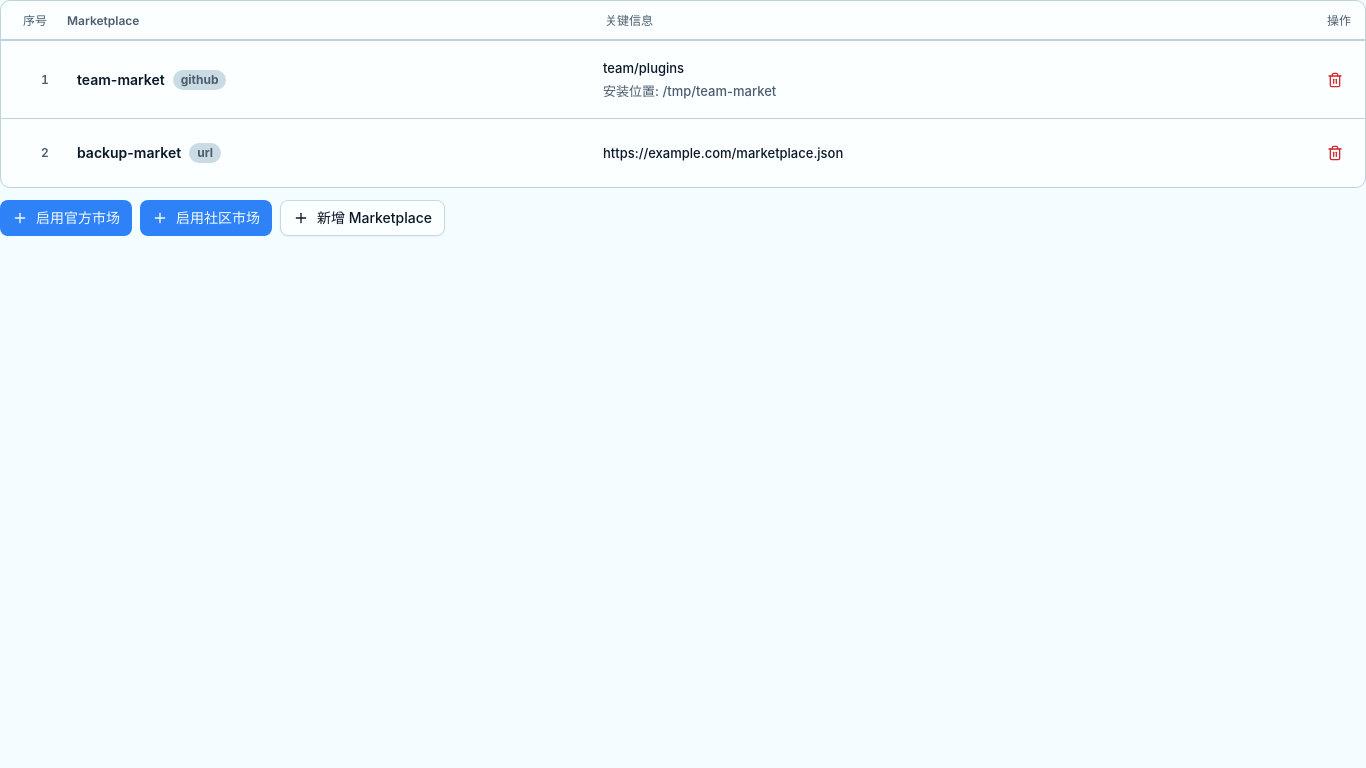
Scenario: MarketplaceEditor › keeps the marketplace when deletion is canceled
The width and height of the screenshot is (1366, 768).
Step 1. Click the button named "删除 Marketplace team-market" → (1335, 80), box [1319,64,1351,96]
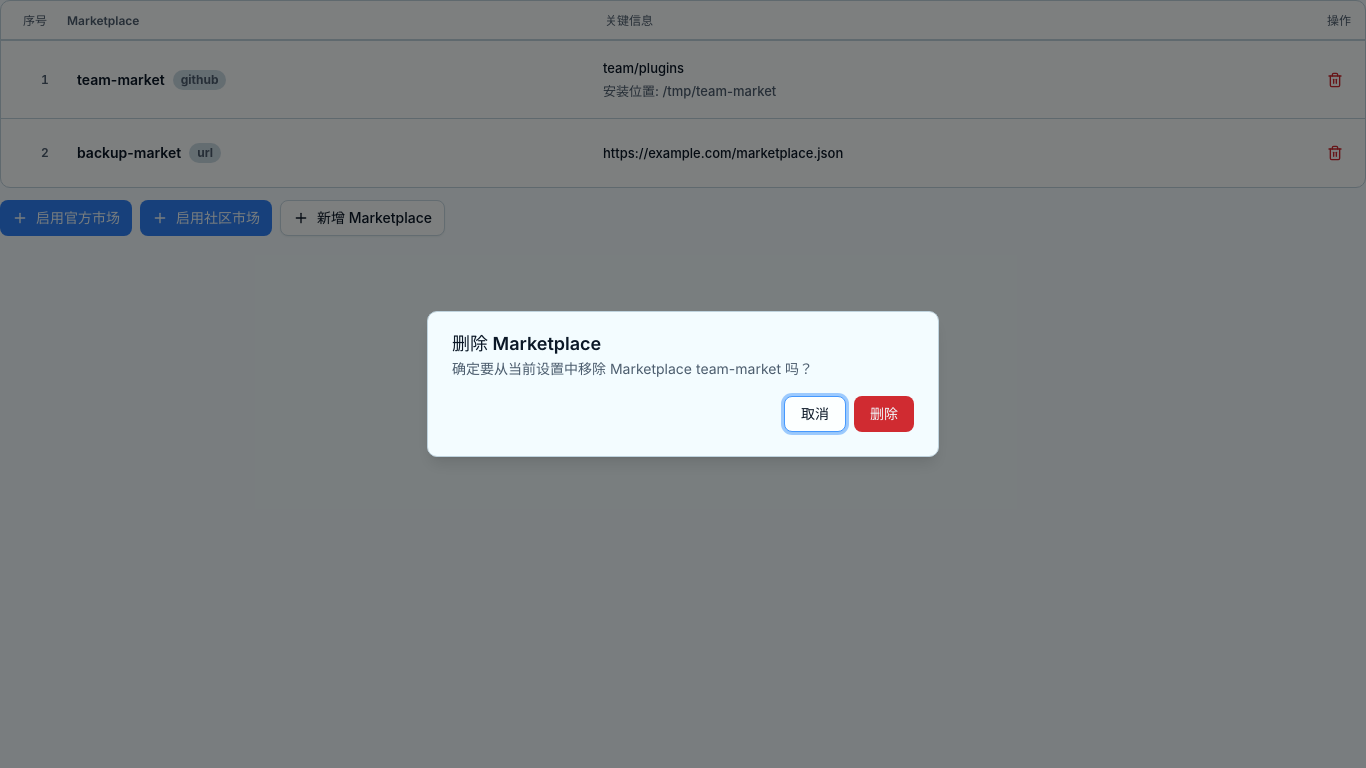
expect the text "确定要从当前设置中移除 Marketplace team-market 吗？" is shown: met, box [452,360,813,380]
Step 2. Click the button "取消" → (815, 414), box [784,396,846,432]
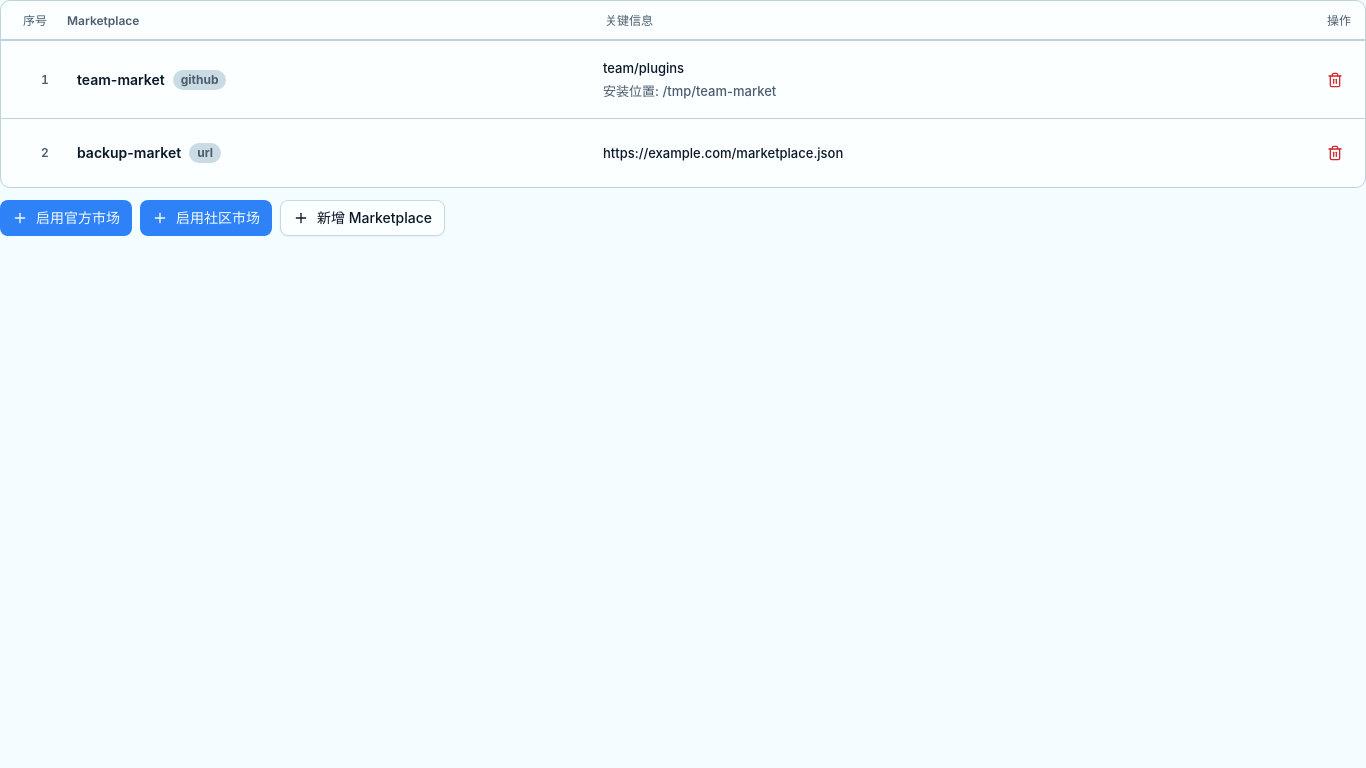
expect the button with aria-label "编辑 Marketplace team-market" is shown: met, box [15,51,1307,108]
expect the text "确定要从当前设置中移除 Marketplace team-market 吗？" is gone: met
